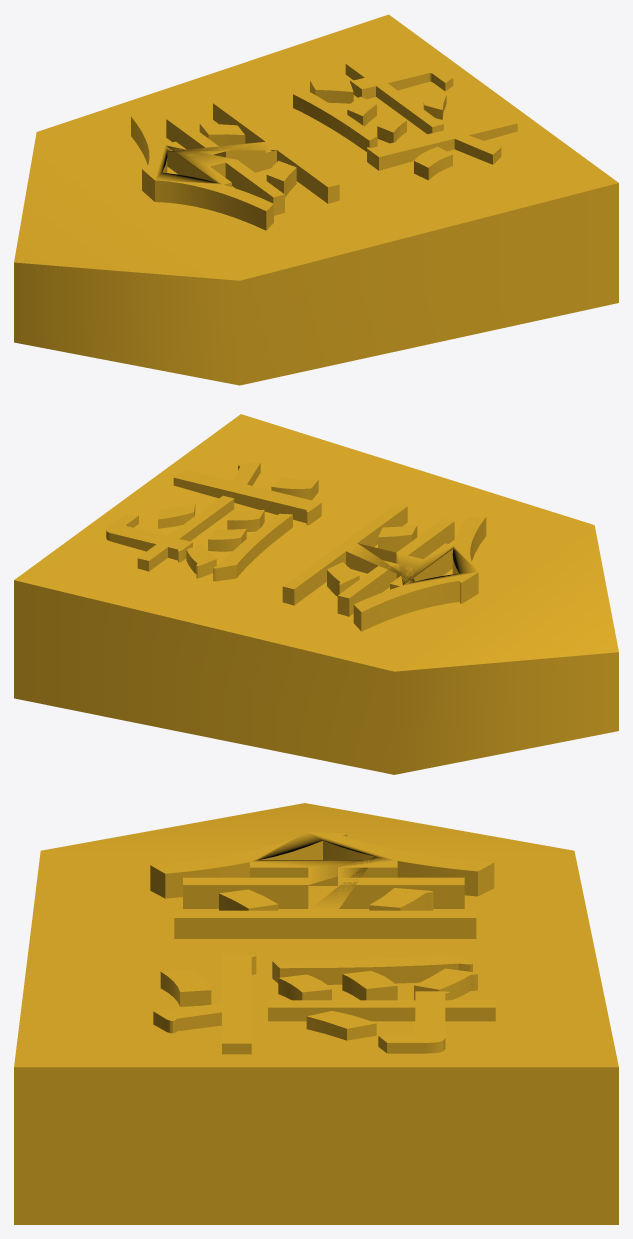
The model's file is gold_general.fbx.
3 renders of one model, top to bottom at view 1: azimuth 30°, elevation 25°; view 2: azimuth 150°, elevation 25°; view 3: azimuth 270°, elevation 25°, orthographic. The views are drawn at different scales.
Parts seen in each view (by area): view 1: pCube1, typeMesh1; view 2: pCube1, typeMesh1; view 3: pCube1, typeMesh1.
Part boxes in pixels (x1,y1,x2,y2): pCube1: [14, 14, 618, 385]; typeMesh1: [131, 61, 517, 230]; pCube1: [14, 414, 618, 774]; typeMesh1: [106, 463, 486, 631]; pCube1: [14, 803, 618, 1224]; typeMesh1: [150, 832, 495, 1054].
Size of the model in its own units: 6.47 by 1.59 by 5.22.
